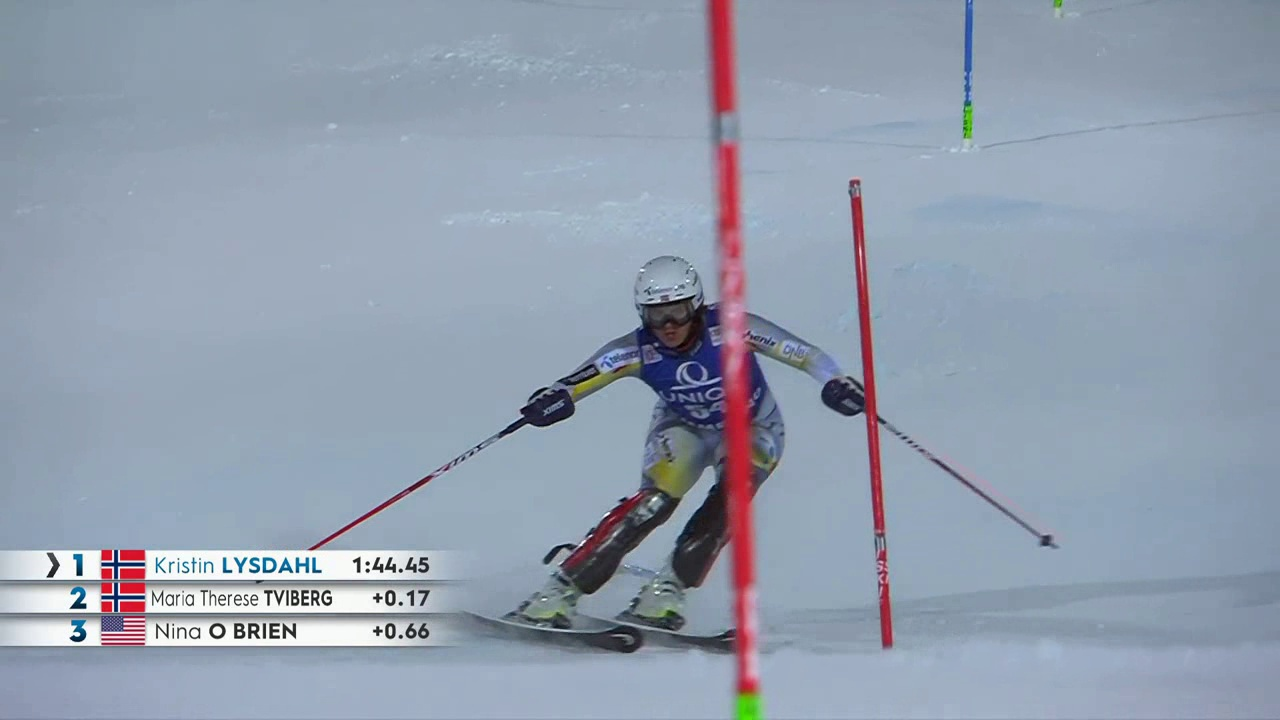uniqa: (668, 363, 729, 410)
